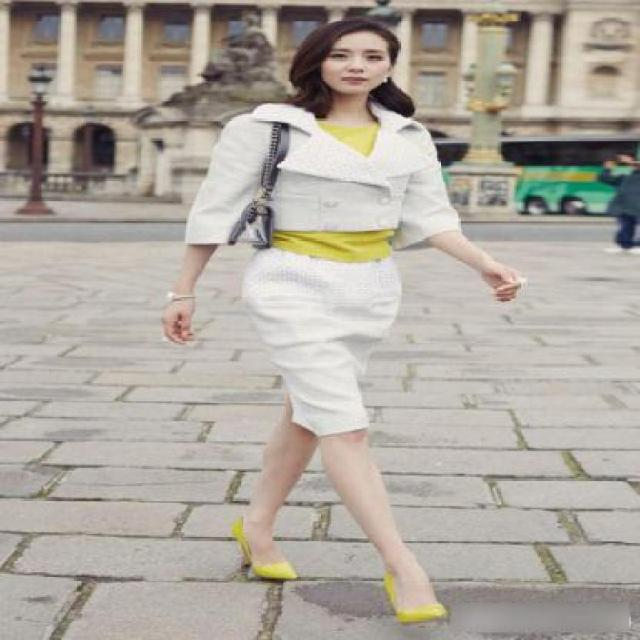Person: (181, 21, 476, 622)
